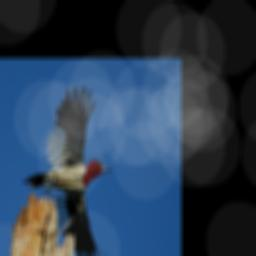Woodpecker: (20, 83, 112, 256)
